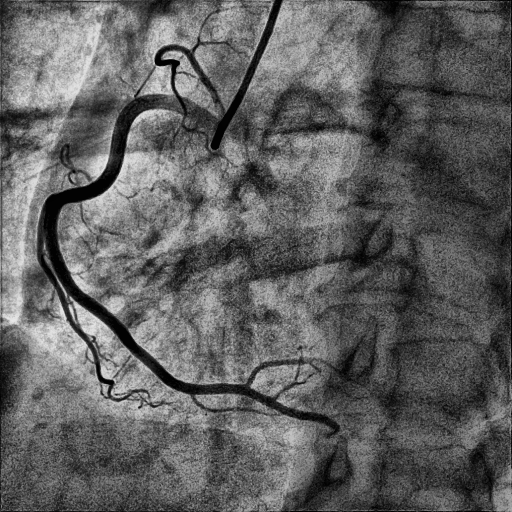pborca: (246, 359, 298, 387)
pda: (244, 388, 341, 437)
rca: (44, 94, 251, 395)
